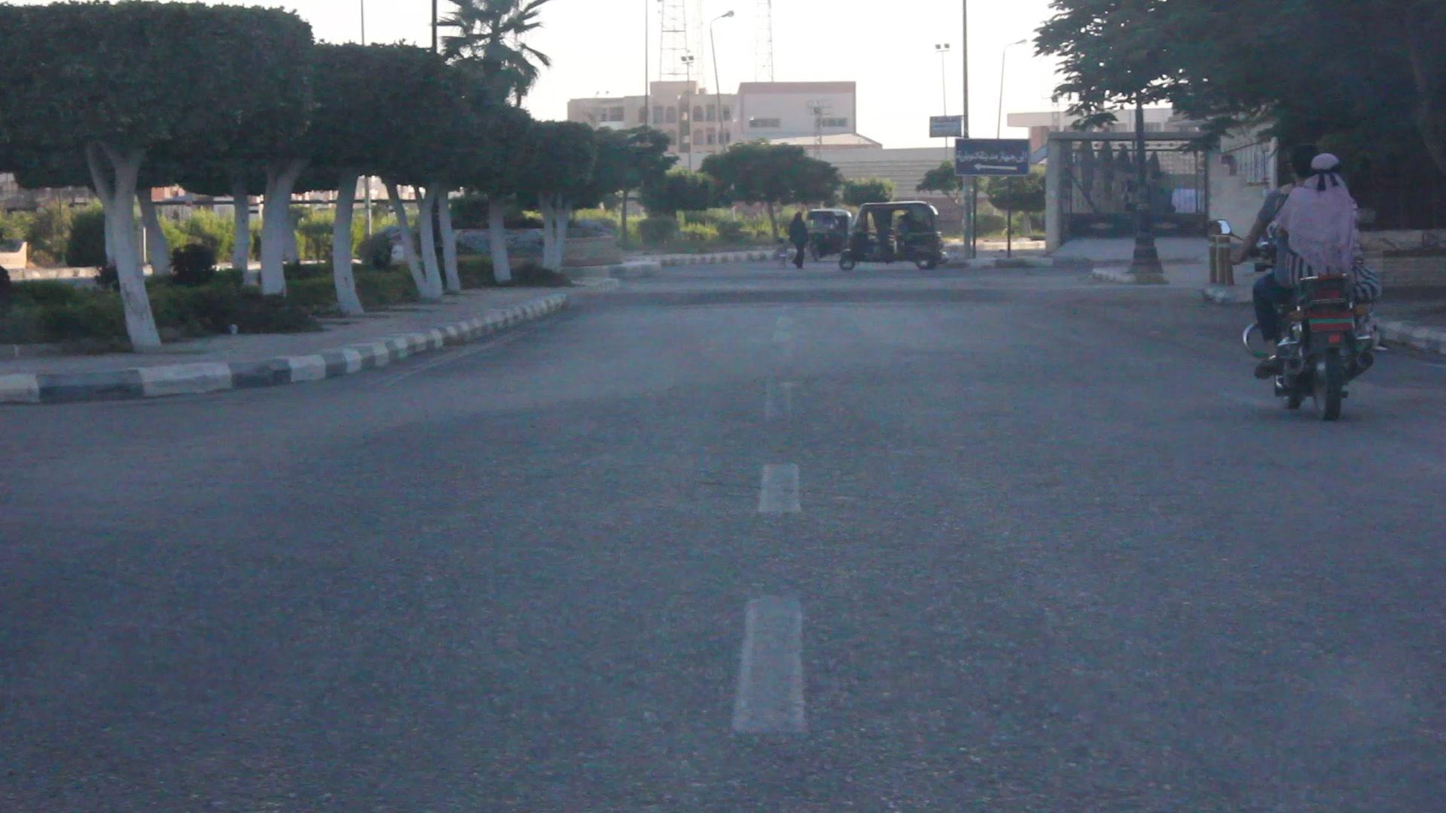Bump: (570, 273, 1061, 310)
